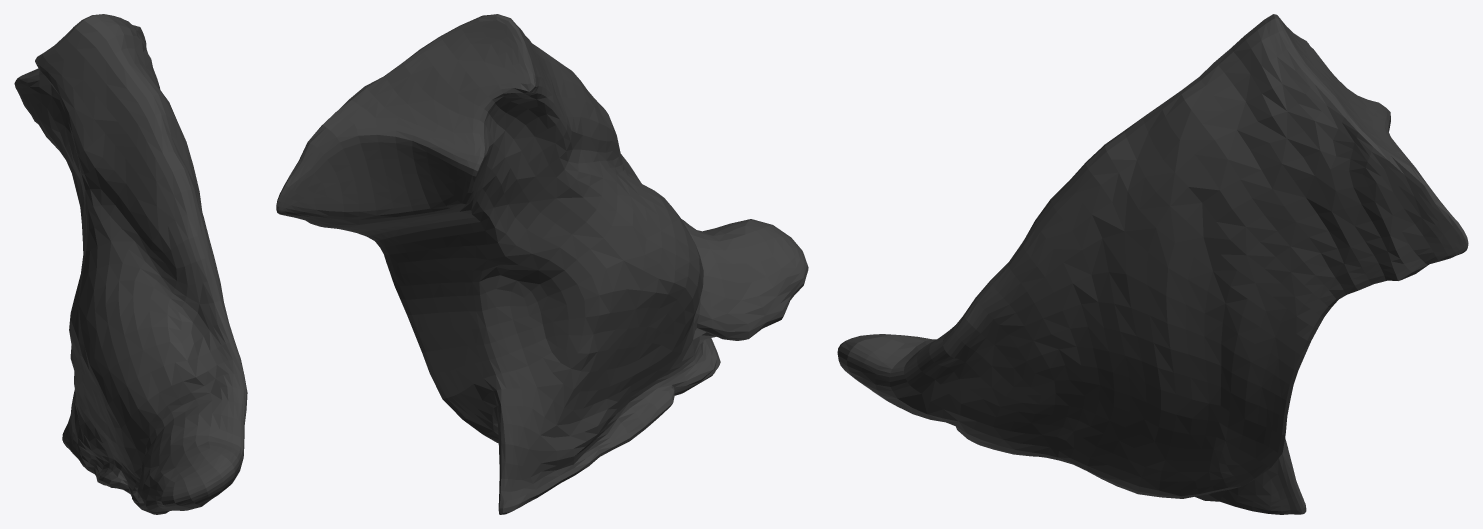
Rendered from L_lung_cranial_part_cranial_lung_lobe_LOW.glb.
3 views of the same model, side by side, from view 1: azimuth 30°, elevation 25°; view 2: azimuth 150°, elevation 25°; view 3: azimuth 270°, elevation 25° (orthographic). The views are drawn at different scales.
Visible parts, largest first — view 1: L_lung_cranial_part_cranial_lung_lobe_LOW; view 2: L_lung_cranial_part_cranial_lung_lobe_LOW; view 3: L_lung_cranial_part_cranial_lung_lobe_LOW.
Part boxes in pixels (x1=…): L_lung_cranial_part_cranial_lung_lobe_LOW: x1=14, y1=14, x2=247, y2=514; L_lung_cranial_part_cranial_lung_lobe_LOW: x1=276, y1=14, x2=808, y2=514; L_lung_cranial_part_cranial_lung_lobe_LOW: x1=837, y1=14, x2=1468, y2=514.
Size of the model in its own units: 0.00586 by 0.0112 by 0.0126.
1 material, 1 textured.
